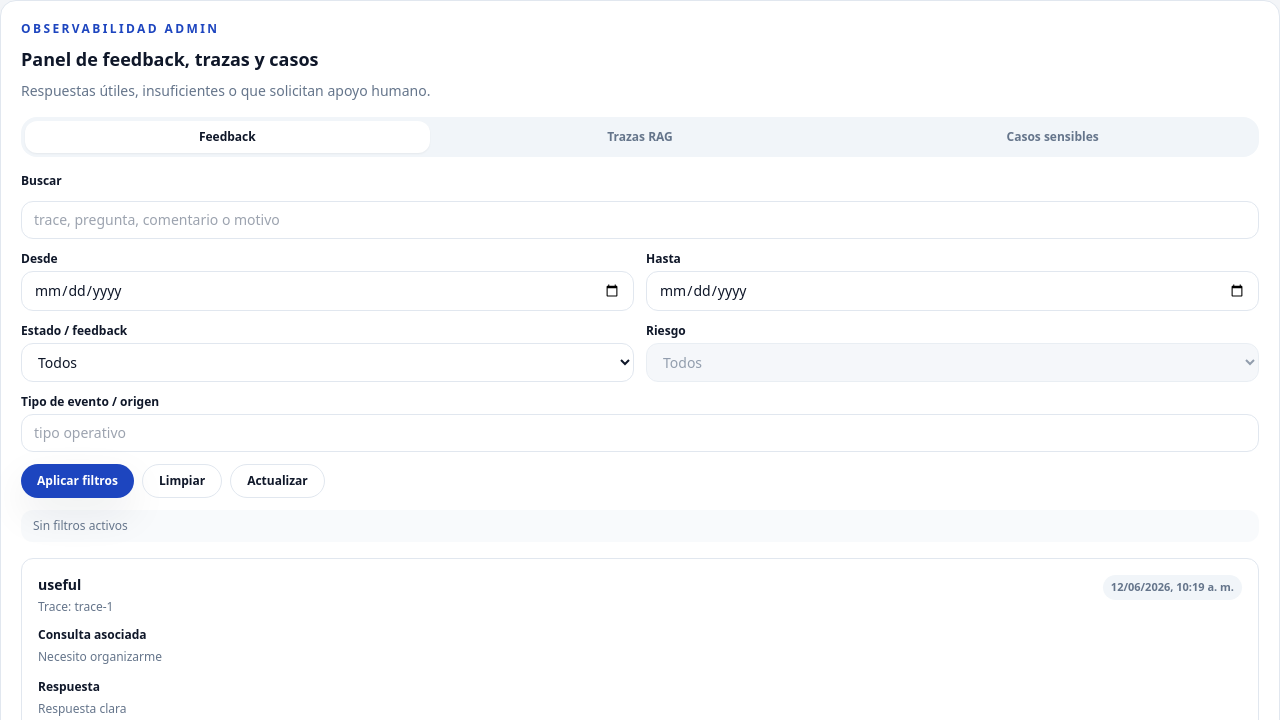
it: AdminObservabilityPanel › muestra feedback y cambia a trazas
Expected: the text "Necesito organizarme" is shown, [38,648,162,665]
Expected: the text "Respuesta clara" is shown, [38,700,126,716]
Click the tab "Trazas RAG". click: (640, 137)
box: [438,121,842,153]
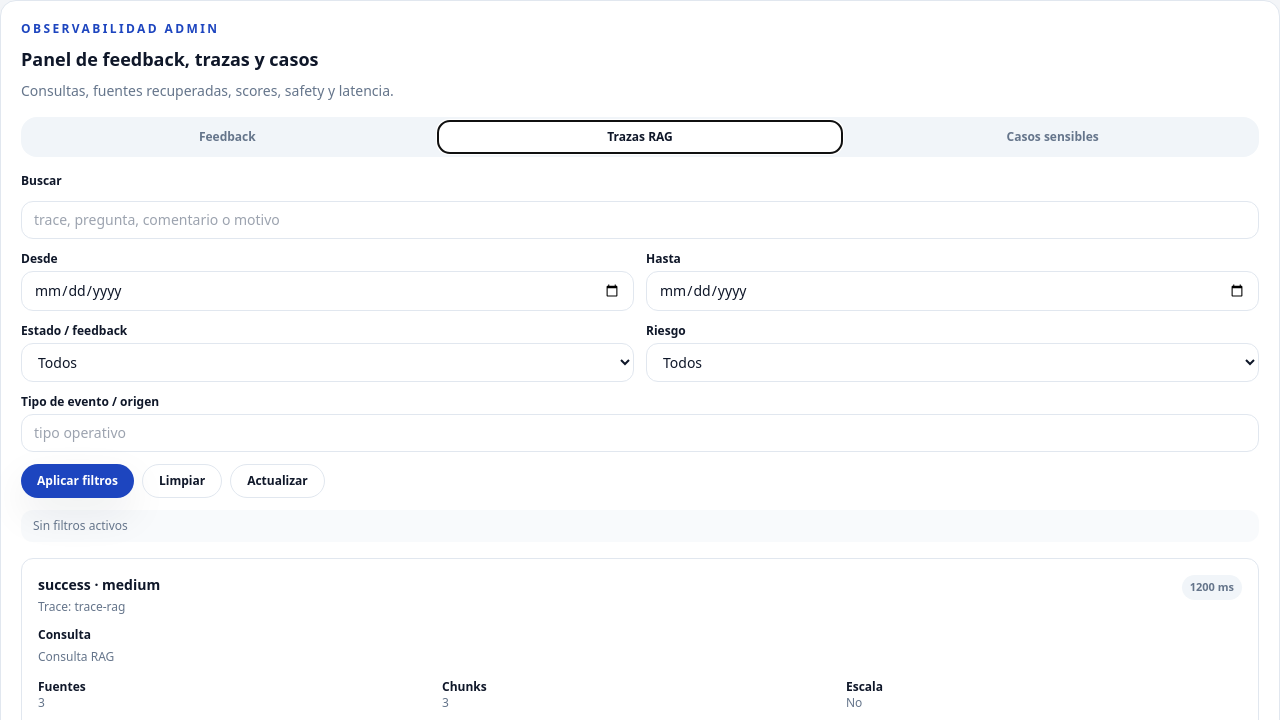
Result: the text "Consulta RAG" is shown at [38,648,114,665]
Result: the text "1200 ms" is shown at [1182,575,1242,600]
